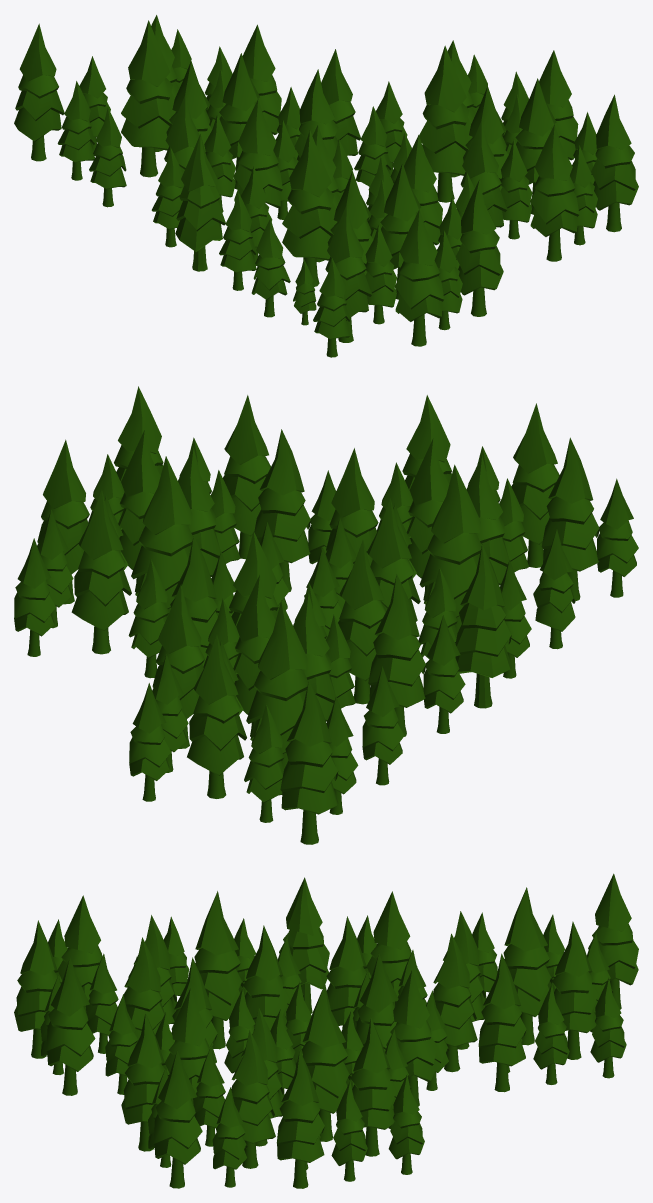
File: Forest_Trees_01.fbx
The picture shows the model from 3 angles, top to bottom: view 1: azimuth 30°, elevation 25°; view 2: azimuth 150°, elevation 25°; view 3: azimuth 270°, elevation 25°; orthographic projection. The views are drawn at different scales.
Visible parts, largest first — view 1: TREE_1_GRP2_pCone098; view 2: TREE_1_GRP2_pCone098; view 3: TREE_1_GRP2_pCone098.
Part boxes in pixels (x1,y1,x2,y2): TREE_1_GRP2_pCone098: [14, 15, 638, 357]; TREE_1_GRP2_pCone098: [14, 386, 638, 844]; TREE_1_GRP2_pCone098: [14, 873, 638, 1188].
Size of the model in its own units: 886 by 322 by 1178.
